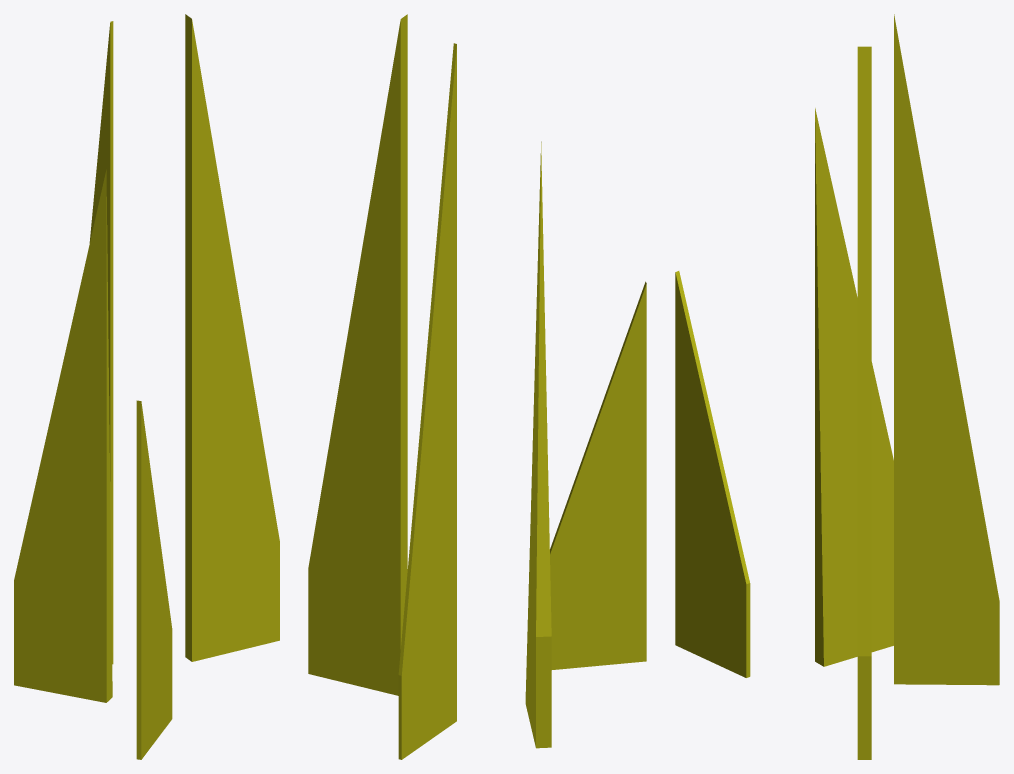
File: grass.fbx
3 renders of one model, left to right at view 1: azimuth 30°, elevation 25°; view 2: azimuth 150°, elevation 25°; view 3: azimuth 270°, elevation 25°, orthographic. The views are drawn at different scales.
Parts seen in each view (by area): view 1: grass; view 2: grass; view 3: grass.
Part boxes in pixels (x1,y1,x2,y2): grass: (14,14,279,759); grass: (308,14,646,759); grass: (675,14,999,759).
Bounding box in the file's own units: 0.2569 × 0.6443 × 0.283.
